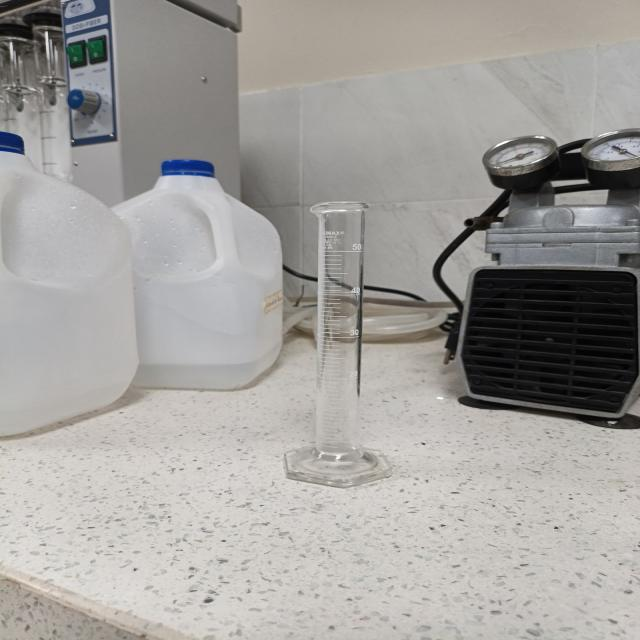Bomba de Vacio de Membrana - Diafragma Portatil: (433, 128, 639, 428)
